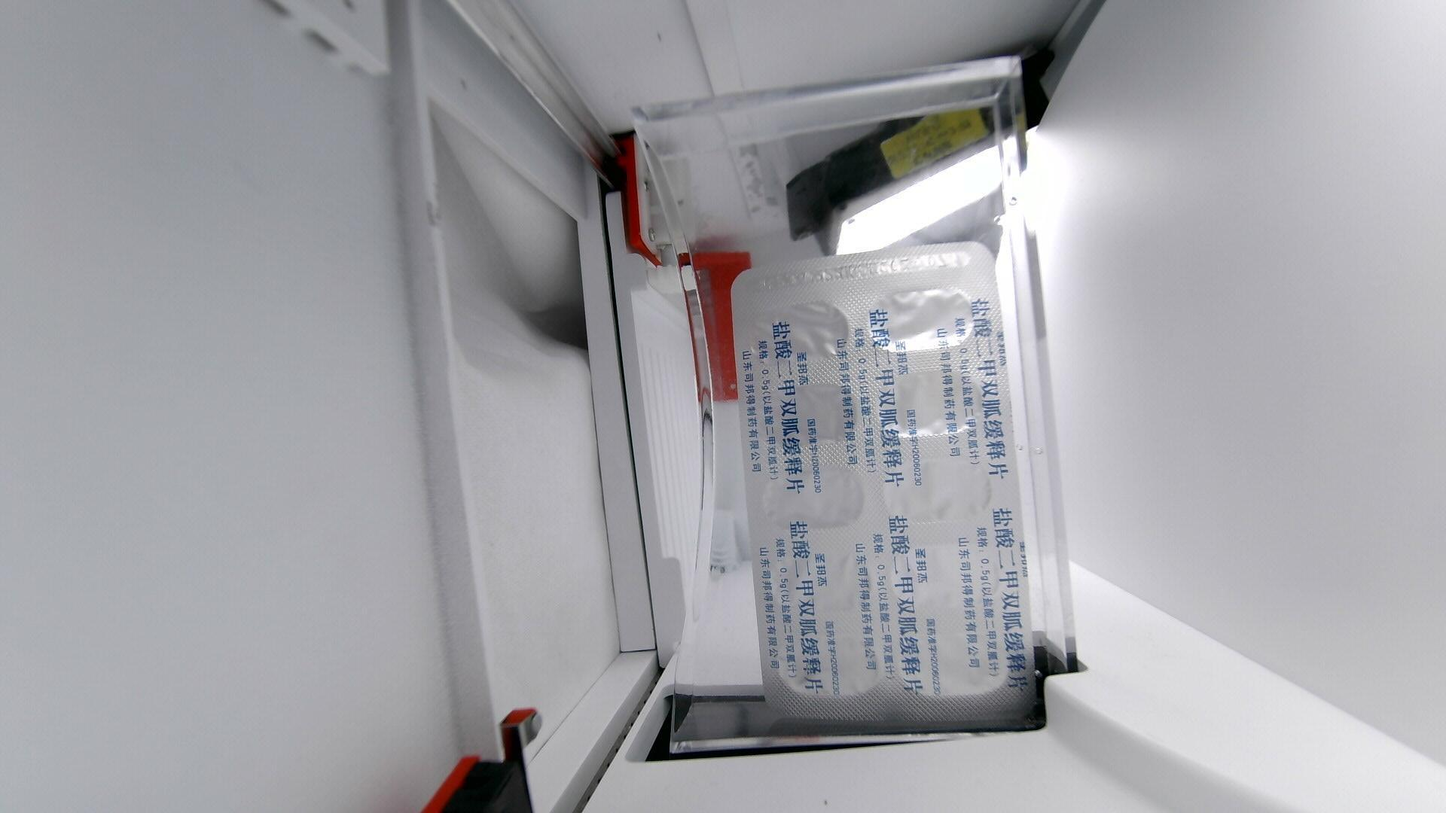Pill Back: (899, 622, 1013, 696), (882, 454, 997, 525), (757, 373, 865, 445), (773, 632, 887, 700), (874, 370, 987, 434), (886, 546, 1011, 602), (863, 291, 978, 349), (764, 466, 868, 530), (767, 550, 875, 610), (752, 303, 853, 361)
